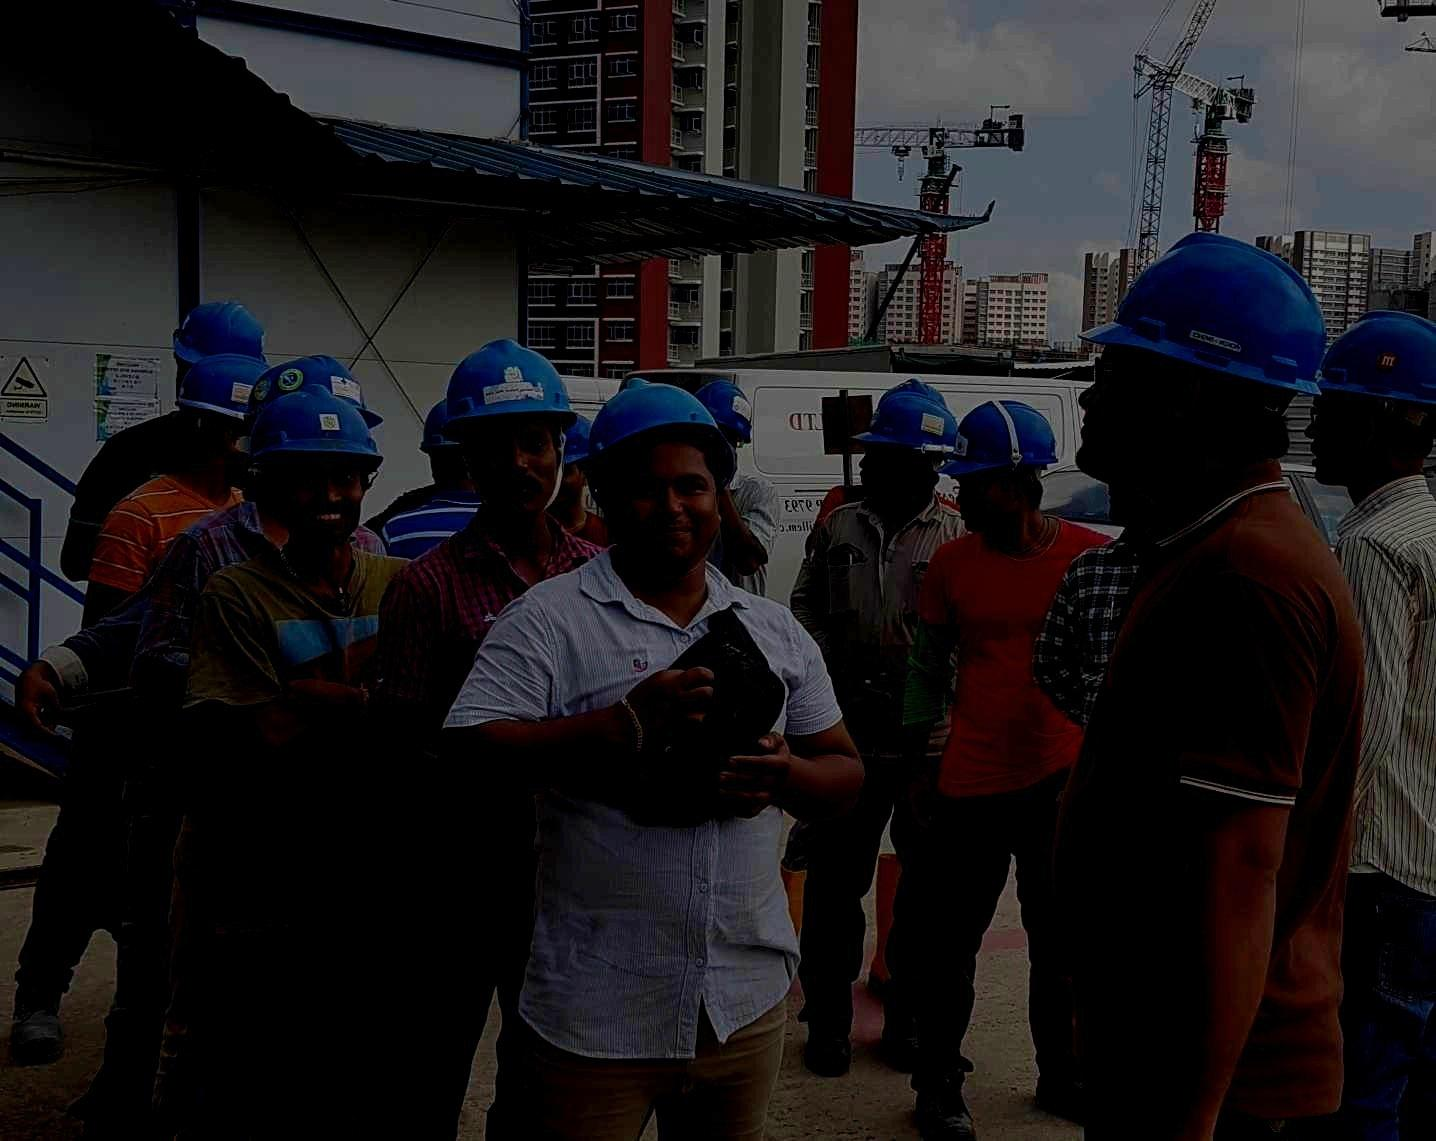helmet: (1075, 232, 1328, 480), (585, 383, 735, 572), (439, 336, 578, 516), (1304, 309, 1436, 486), (249, 383, 383, 549), (937, 399, 1061, 535), (175, 352, 272, 477), (242, 354, 383, 439), (852, 390, 959, 501), (173, 297, 269, 388), (694, 379, 753, 451), (867, 376, 949, 422), (418, 397, 459, 486), (562, 413, 593, 502)
